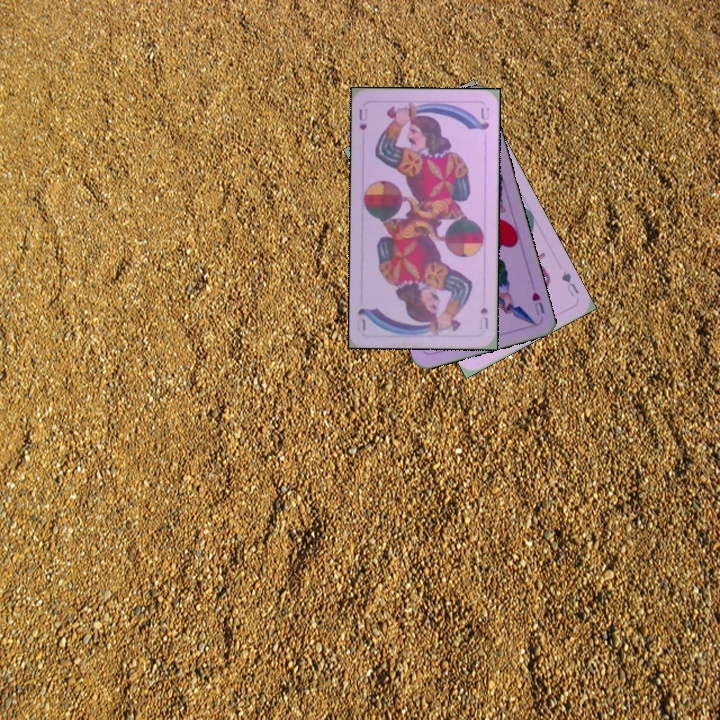GU: (557, 267, 582, 299)
HU: (527, 280, 547, 318)
SU: (475, 303, 491, 332), (355, 104, 370, 133)
